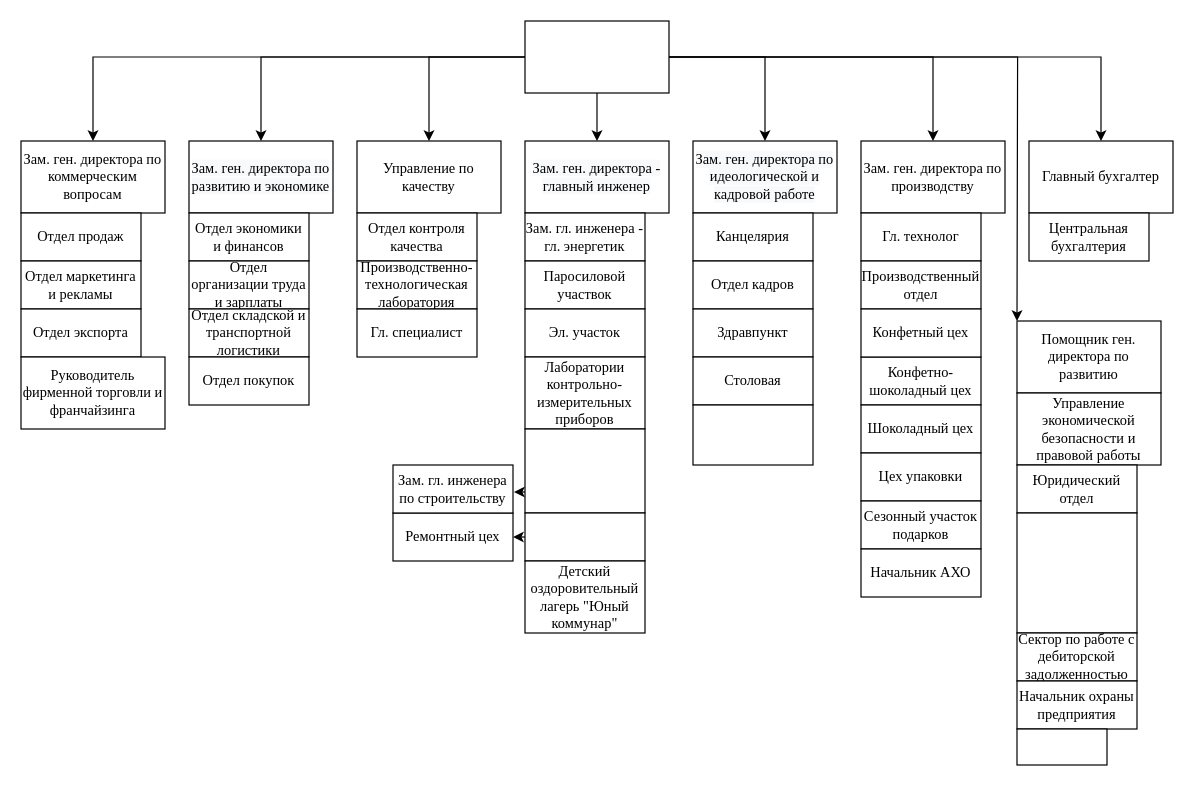
Some shapes in this 1194 by 786 pixel diagram are drawn without their labels. Each missing label, with the box of its shape:
Вед. специалист по информационной безопасности и защите персональных данных: (1016, 512, 1137, 633)
Генеральный директор: (524, 20, 669, 93)
Гл. механик: (524, 512, 645, 561)
Отдел охраны труда промышленной и пожарной безопасности: (524, 428, 645, 513)
Отдел по идеологической работе: (692, 404, 813, 465)
Охрана предприятия: (1016, 728, 1107, 765)
